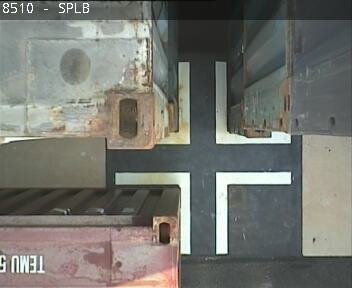groundmarker_1: (115, 171, 291, 253), (156, 61, 288, 144)
